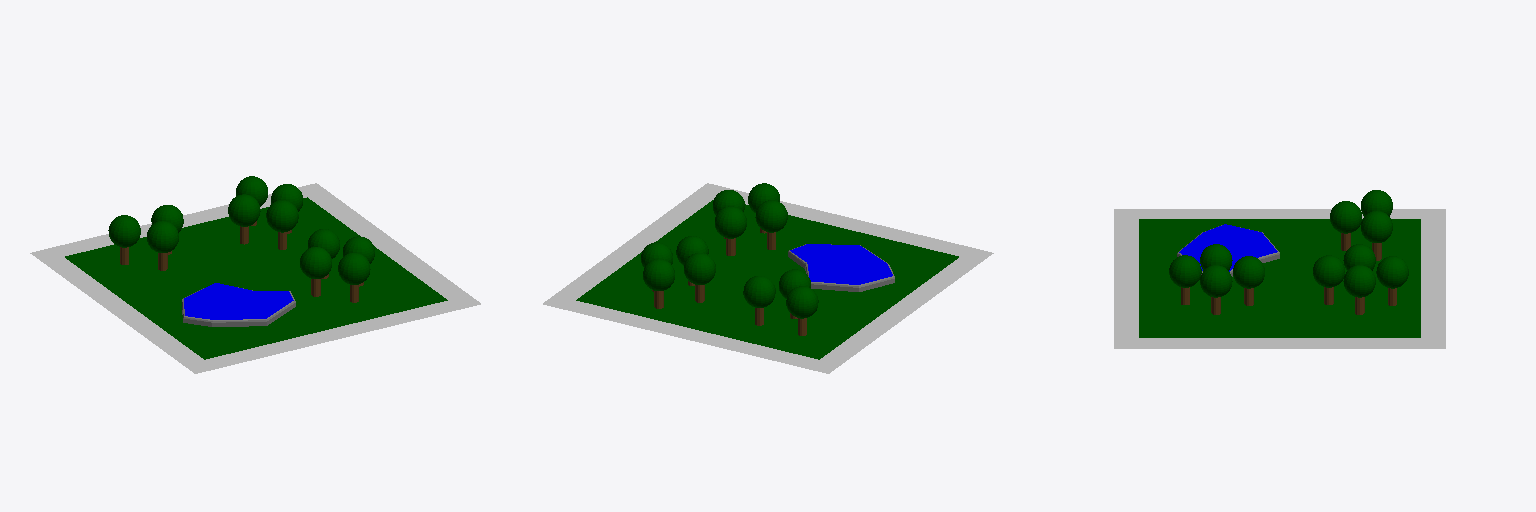
The model's file is bldg_park.obj.
The picture shows the model from 3 angles: view 1: azimuth 30°, elevation 25°; view 2: azimuth 150°, elevation 25°; view 3: azimuth 270°, elevation 25°; orthographic projection.
Visible parts, largest first — view 1: polySurface12; view 2: polySurface12; view 3: polySurface12.
Part boxes in pixels (x1,y1,x2,y2): polySurface12: (30, 176, 480, 373); polySurface12: (543, 183, 993, 373); polySurface12: (1114, 190, 1445, 348).
Size of the model in its own units: 10 by 1.61 by 10.